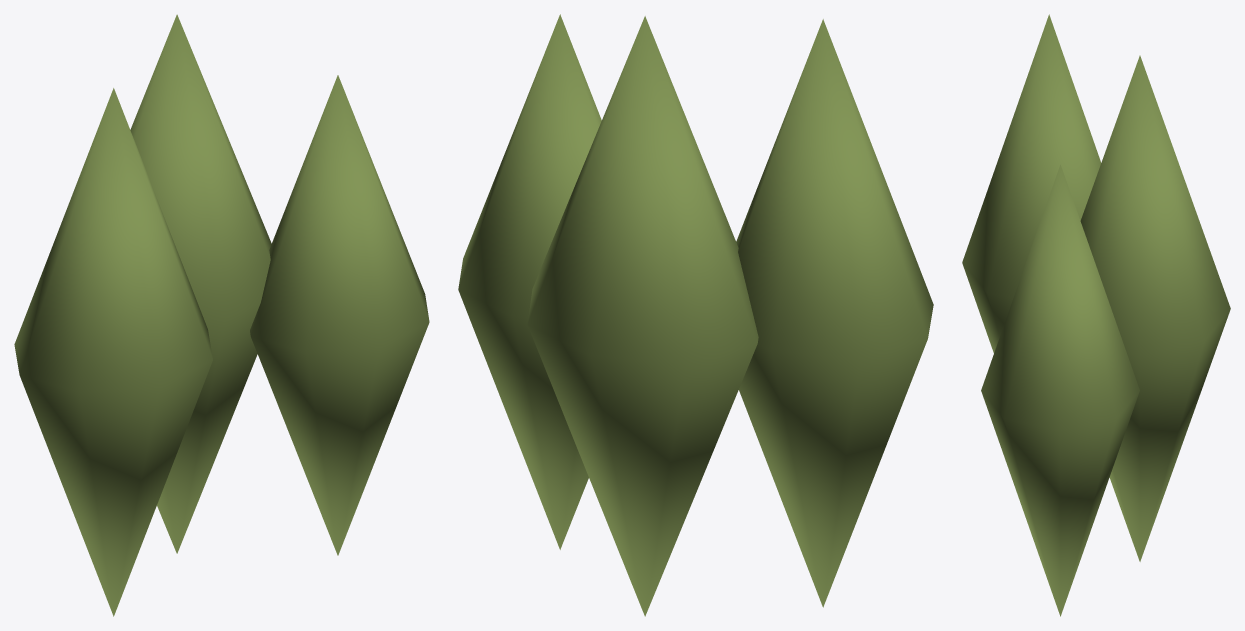
Rendered from bush-v1.shadow.glb.
The picture shows the model from 3 angles, left to right: view 1: azimuth 30°, elevation 25°; view 2: azimuth 150°, elevation 25°; view 3: azimuth 270°, elevation 25°; orthographic projection. The views are drawn at different scales.
Visible parts, largest first — view 1: bush-v1.shadow; view 2: bush-v1.shadow; view 3: bush-v1.shadow.
Part boxes in pixels (x1=…): bush-v1.shadow: x1=14, y1=14, x2=429, y2=616; bush-v1.shadow: x1=458, y1=14, x2=933, y2=616; bush-v1.shadow: x1=962, y1=14, x2=1230, y2=616.
Bounding box in the file's own units: 1.18 × 1.48 × 0.71.
